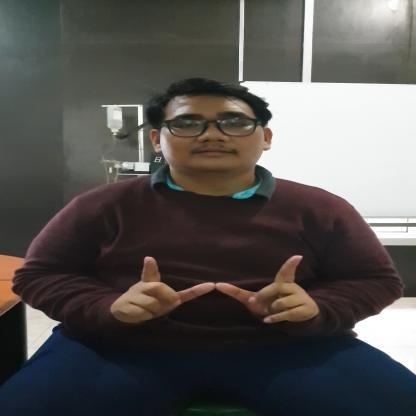W: (113, 254, 322, 324)
